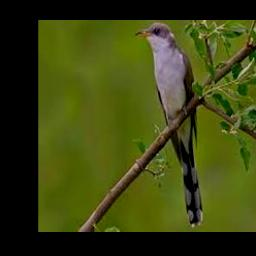Cuckoo: (135, 22, 203, 227)
